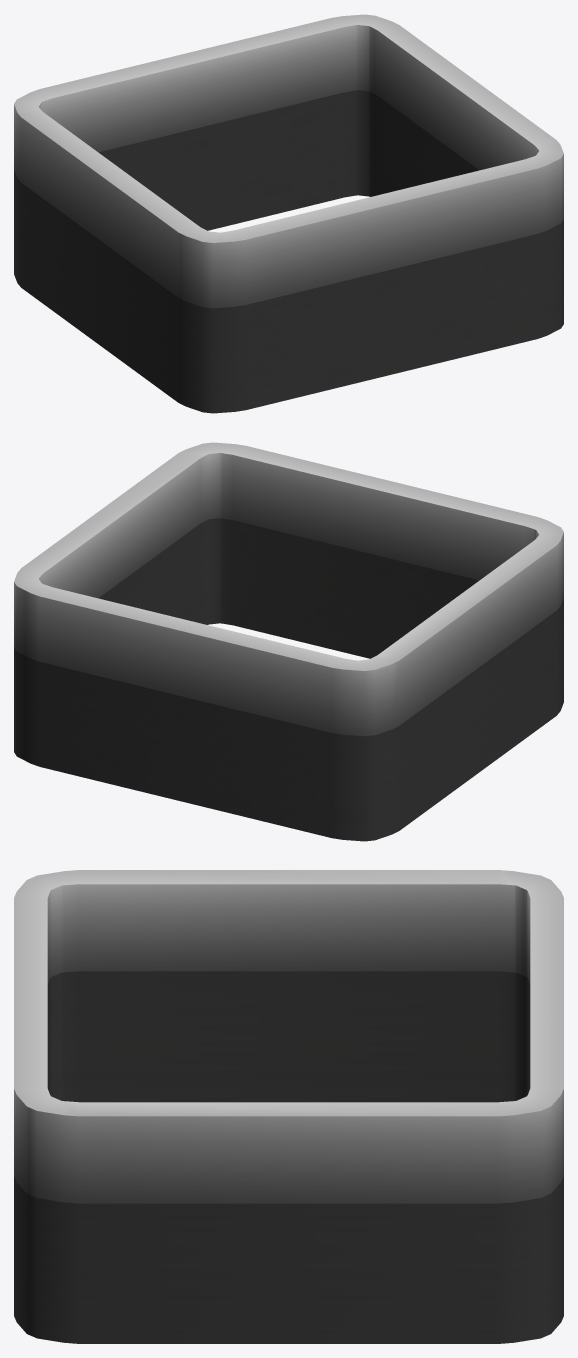
Rendered from SQUARE.fbx.
The picture shows the model from 3 angles, top to bottom: view 1: azimuth 30°, elevation 25°; view 2: azimuth 150°, elevation 25°; view 3: azimuth 270°, elevation 25°; orthographic projection. The views are drawn at different scales.
Visible parts, largest first — view 1: Plane, PieceType5; view 2: Plane, PieceType5; view 3: Plane, PieceType5.
Part boxes in pixels (x1,y1,x2,y2): Plane: (14, 90, 563, 413); PieceType5: (14, 14, 563, 308); Plane: (14, 518, 563, 841); PieceType5: (14, 442, 563, 736); Plane: (14, 971, 563, 1343); PieceType5: (14, 870, 563, 1203).
Size of the model in its own units: 121 by 51.97 by 114.
